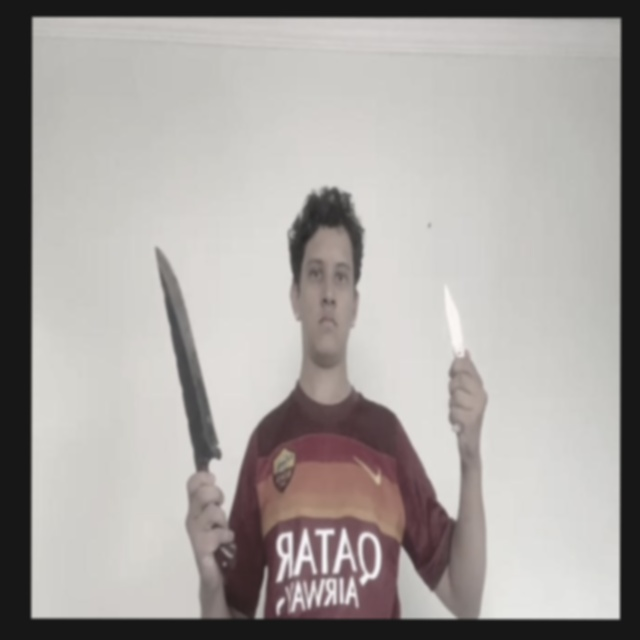Sharp-Object: (155, 242, 223, 463), (444, 284, 466, 357)
